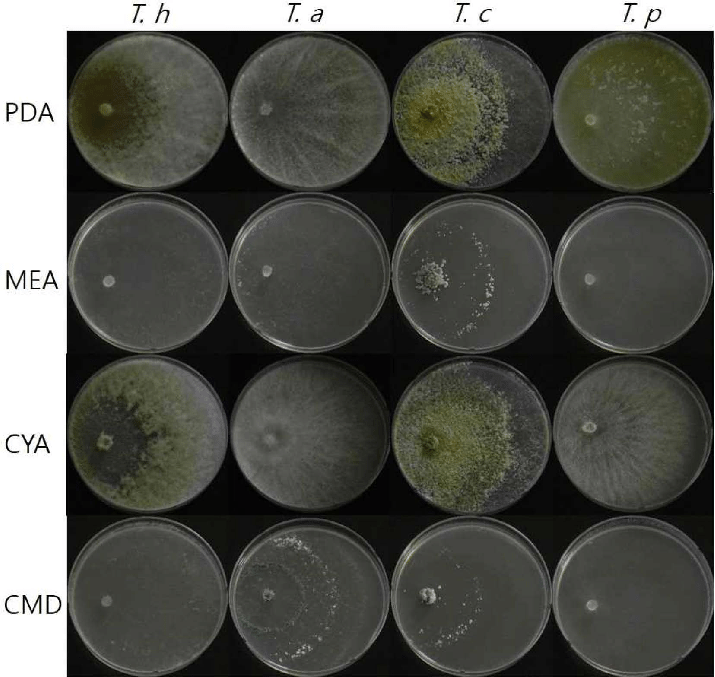Trichoderma: (234, 56, 378, 166), (571, 54, 700, 164), (564, 381, 687, 484), (242, 547, 342, 663), (402, 396, 520, 489), (411, 222, 506, 332), (401, 76, 512, 159), (74, 389, 171, 480), (408, 555, 485, 646), (243, 395, 333, 472), (74, 69, 150, 146), (238, 234, 299, 328), (99, 274, 116, 287)
